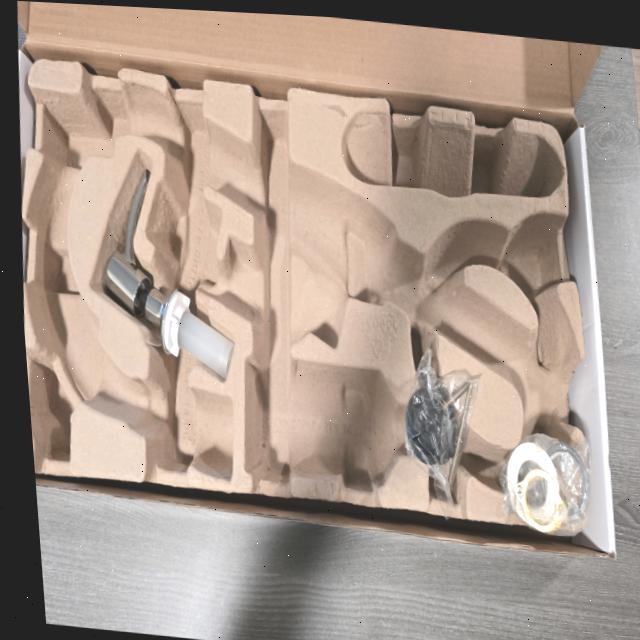1m: (30, 88, 580, 478)
2: (103, 174, 233, 379)
3m: (244, 358, 420, 486)
4m: (343, 114, 559, 196)
5m: (504, 218, 556, 294)
6: (494, 432, 590, 538)
7: (404, 345, 482, 509)
